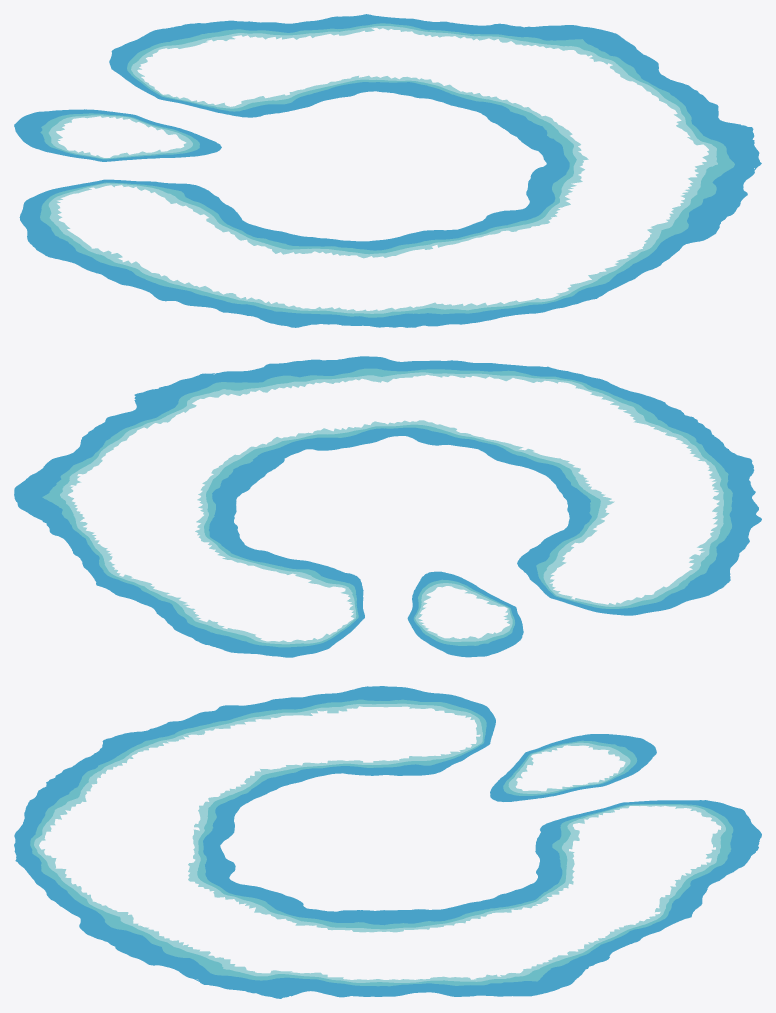
File: Isl-atoll1-Water.fbx
3 renders of one model, top to bottom at view 1: azimuth 30°, elevation 25°; view 2: azimuth 150°, elevation 25°; view 3: azimuth 270°, elevation 25°, orthographic. The views are drawn at different scales.
Parts seen in each view (by area): view 1: Isl-atoll1-Water; view 2: Isl-atoll1-Water; view 3: Isl-atoll1-Water.
Boxes of the visible parts, x1,y1,x2,y2 form: Isl-atoll1-Water: [14, 14, 761, 327]; Isl-atoll1-Water: [14, 356, 761, 657]; Isl-atoll1-Water: [14, 686, 761, 998].
Bounding box in the file's own units: 145 × 0 × 146.
